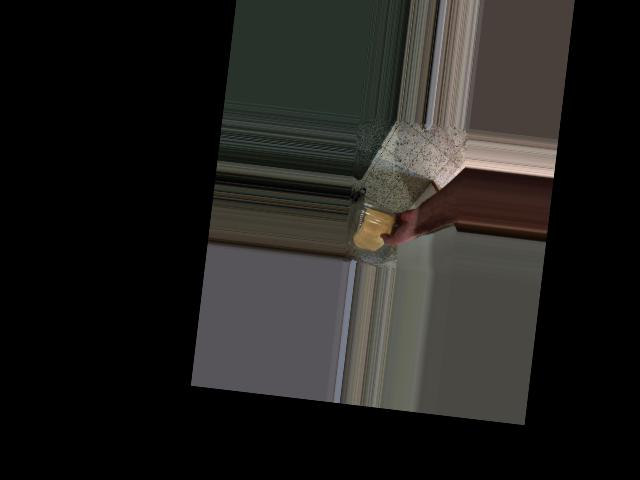cheese: (348, 201, 398, 255)
